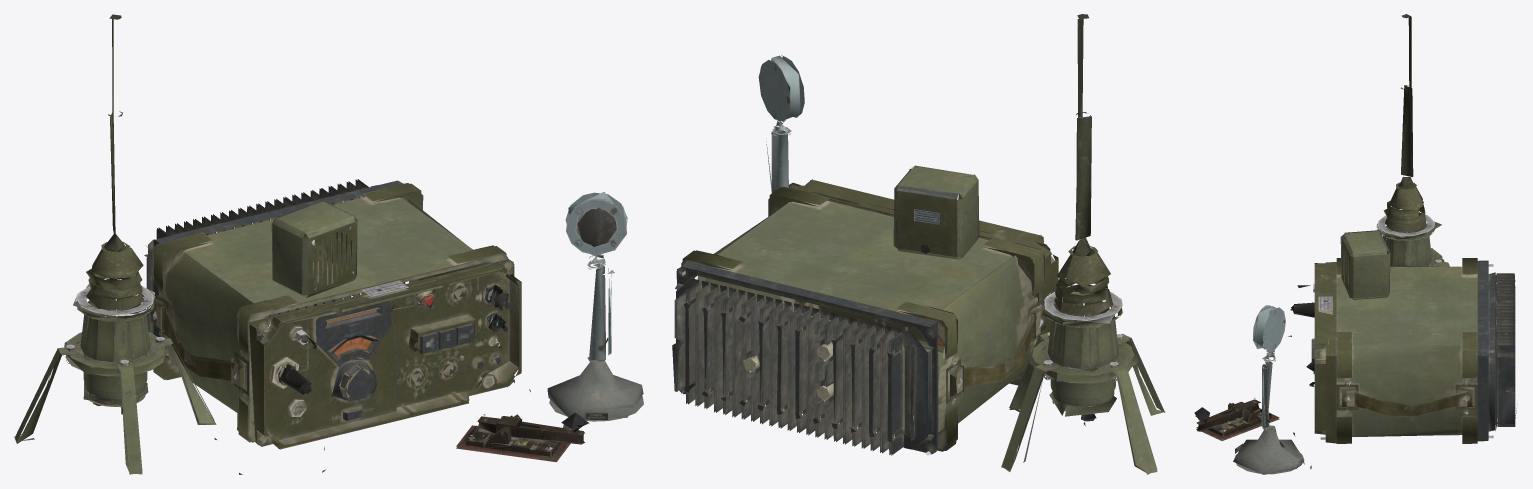
The model's file is ph_vintage_radio_transceiver.glb.
The picture shows the model from 3 angles, left to right: view 1: azimuth 30°, elevation 25°; view 2: azimuth 150°, elevation 25°; view 3: azimuth 270°, elevation 25°; orthographic projection. The views are drawn at different scales.
Visible parts, largest first — view 1: vintage_radio_transceiver; view 2: vintage_radio_transceiver; view 3: vintage_radio_transceiver.
Boxes of the visible parts, box(x1,y1,x2,y2) form: vintage_radio_transceiver: box(14, 14, 643, 474); vintage_radio_transceiver: box(672, 14, 1165, 474); vintage_radio_transceiver: box(1194, 14, 1517, 474).
Size of the model in its own units: 0.5666 by 0.435 by 0.4169.
2 materials, 2 textured.
